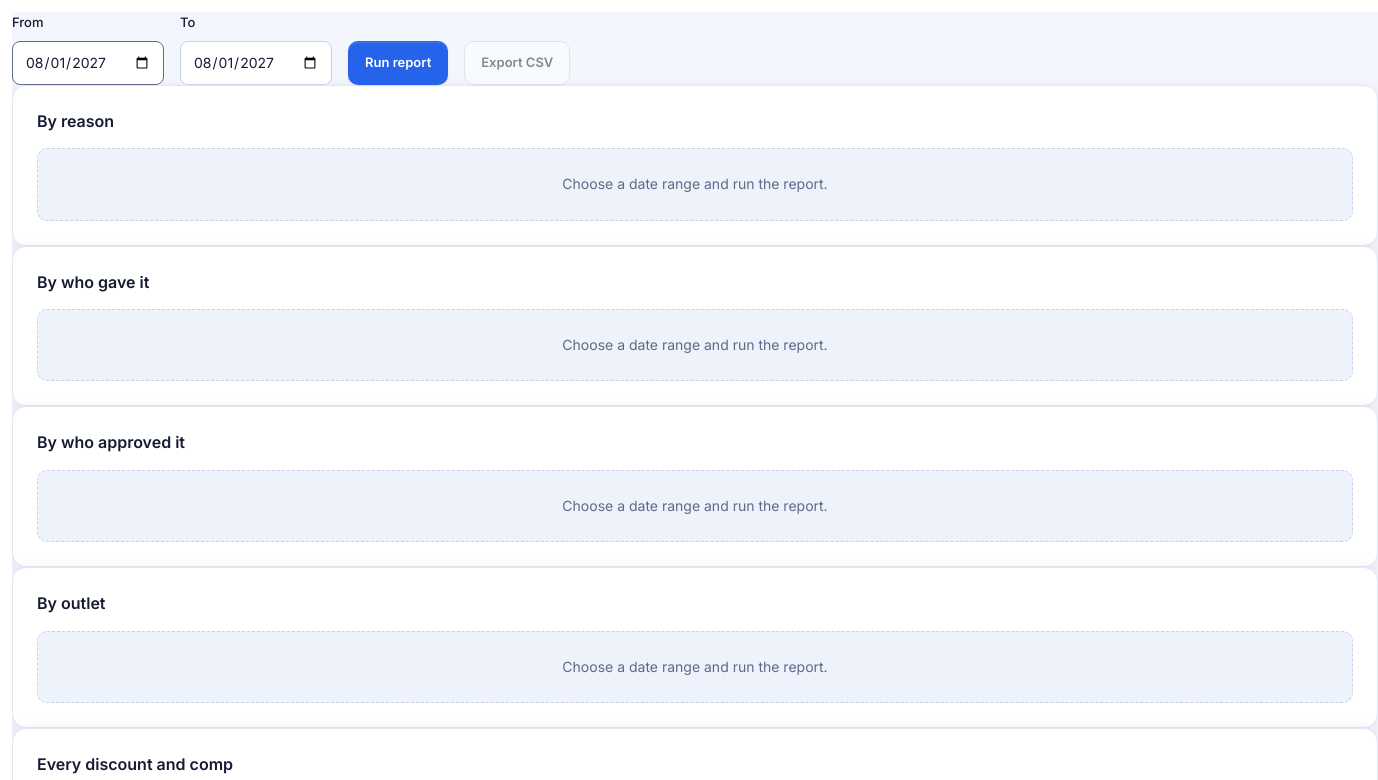
Test case: <DiscountsTab> › shows the server's refusal, such as a missing permission
The width and height of the screenshot is (1378, 780).
Step 1. Click the button "Run report" → coordinates (398, 63), box [348, 41, 448, 85]
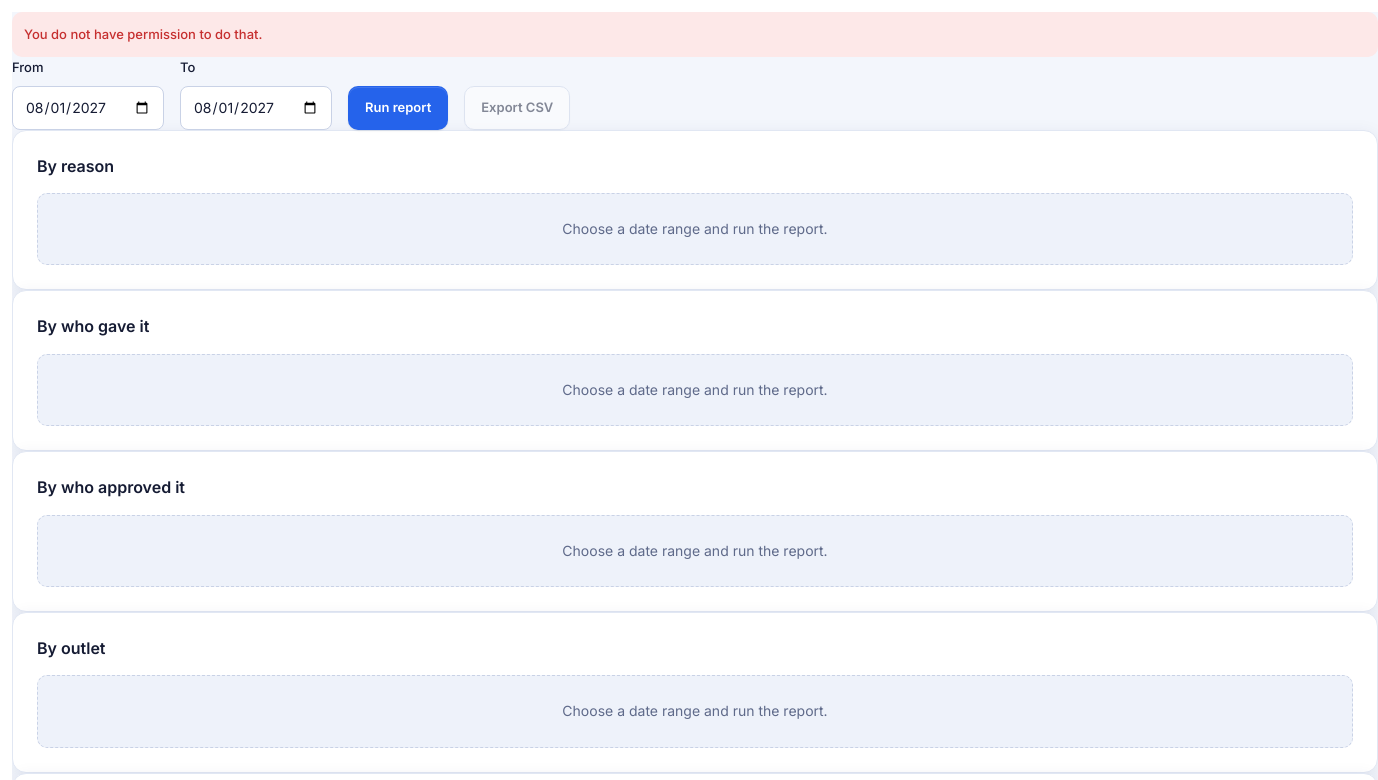
Now the message reads "You do not have permission to do that.", box [24, 26, 262, 42]
